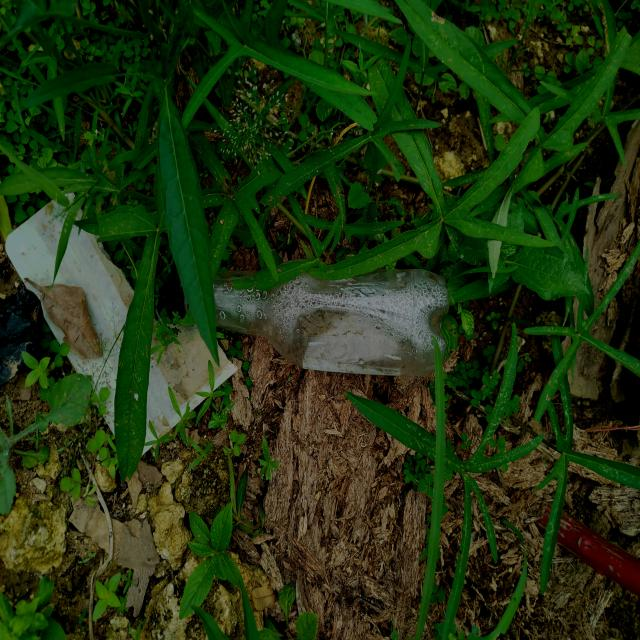plastic: (155, 251, 458, 385)
